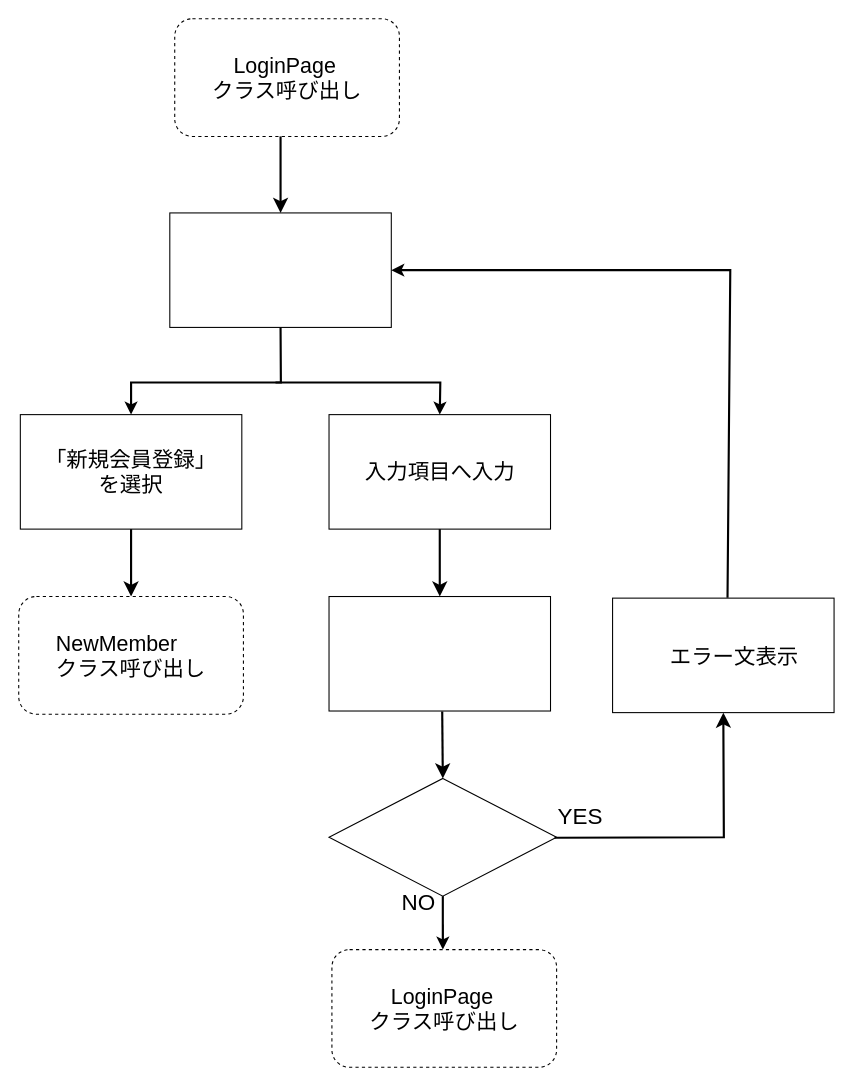
The diagram is 859 pixels wide and 1086 high, and some of its shapes have lost their labels. The centre of each missing label's shape, as x and y in pixels:
「ログイン」を選択: the point at 439,653
ログイン画面表示: the point at 280,269
入力内容に問題 があるか: the point at 442,836
